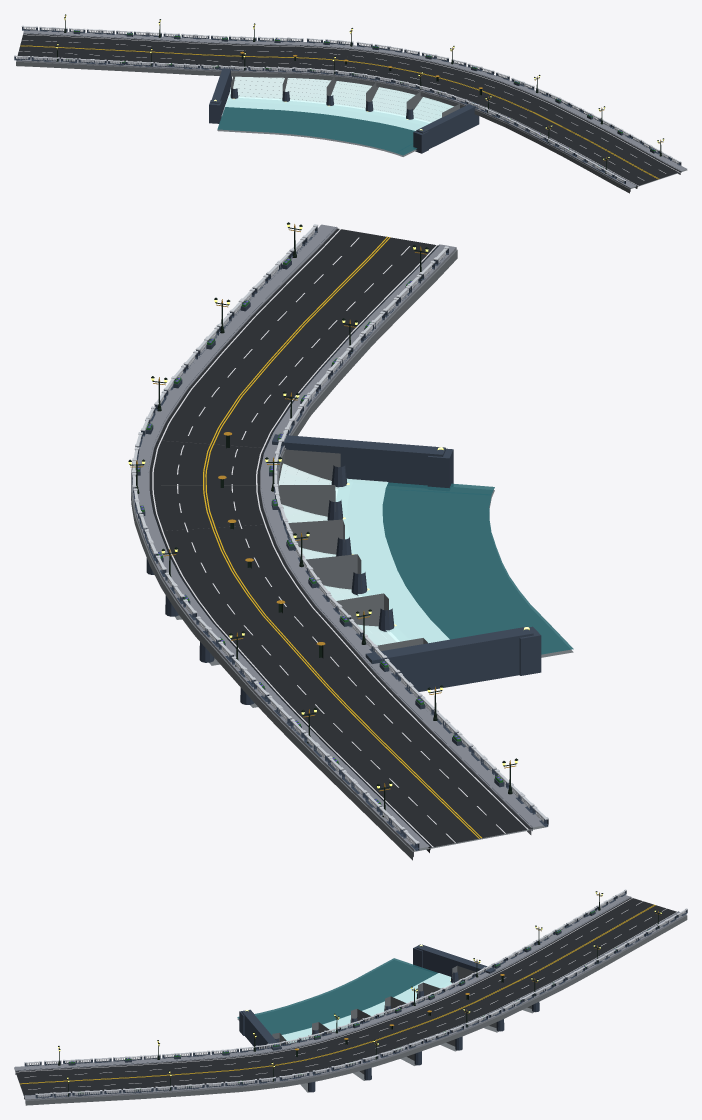
File: cau_ong_dao_dap_tran_ho_xuan_huong.glb
3 views of the same model, one above another, from view 1: azimuth 30°, elevation 25°; view 2: azimuth 150°, elevation 25°; view 3: azimuth 270°, elevation 25° (orthographic). The views are drawn at different scales.
Parts seen in each view (by area): view 1: CauOngDao_Asphalt_4Lanes, HoXuanHuong_Ogee_Spillway_Dam_And_Piers, CamLy_Stilling_Basin_Water_Surface, Spillway_Waterfall_Cascade_Foam, CauOngDao_SplitGranite_Wall_And_Curbs, CauOngDao_Promenade_Sidewalks, CauOngDao_Classical_Stone_Balustrades, CauOngDao_Lane_Edge_White, CauOngDao_Center_DoubleYellow, Spillway_SluiceGates_And_LampPosts; view 2: CauOngDao_Asphalt_4Lanes, CamLy_Stilling_Basin_Water_Surface, CauOngDao_SplitGranite_Wall_And_Curbs, CauOngDao_Promenade_Sidewalks, HoXuanHuong_Ogee_Spillway_Dam_And_Piers, Spillway_Waterfall_Cascade_Foam, CauOngDao_Classical_Stone_Balustrades, CauOngDao_Lane_Edge_White, CauOngDao_Center_DoubleYellow, Spillway_SluiceGates_And_LampPosts; view 3: CauOngDao_Asphalt_4Lanes, CauOngDao_SplitGranite_Wall_And_Curbs, CauOngDao_Promenade_Sidewalks, CamLy_Stilling_Basin_Water_Surface, HoXuanHuong_Ogee_Spillway_Dam_And_Piers, CauOngDao_Classical_Stone_Balustrades, CauOngDao_Lane_Edge_White, Spillway_Waterfall_Cascade_Foam, CauOngDao_Center_DoubleYellow, Spillway_SluiceGates_And_LampPosts.
Part boxes in pixels (x1,y1,x2,y2): CauOngDao_Asphalt_4Lanes: (17, 34, 680, 188); HoXuanHuong_Ogee_Spillway_Dam_And_Piers: (16, 61, 687, 193); CamLy_Stilling_Basin_Water_Surface: (217, 98, 428, 155); Spillway_Waterfall_Cascade_Foam: (225, 76, 453, 130); CauOngDao_SplitGranite_Wall_And_Curbs: (14, 27, 681, 187); CauOngDao_Promenade_Sidewalks: (16, 30, 686, 191); CauOngDao_Classical_Stone_Balustrades: (14, 25, 680, 182); CauOngDao_Lane_Edge_White: (19, 34, 679, 185); CauOngDao_Center_DoubleYellow: (20, 45, 659, 179); Spillway_SluiceGates_And_LampPosts: (56, 14, 663, 173); CauOngDao_Asphalt_4Lanes: (149, 228, 530, 852); CamLy_Stilling_Basin_Water_Surface: (336, 480, 573, 654); CauOngDao_SplitGranite_Wall_And_Curbs: (132, 226, 548, 850); CauOngDao_Promenade_Sidewalks: (132, 224, 543, 856); HoXuanHuong_Ogee_Spillway_Dam_And_Piers: (131, 249, 573, 860); Spillway_Waterfall_Cascade_Foam: (279, 463, 449, 645); CauOngDao_Classical_Stone_Balustrades: (132, 224, 548, 845); CauOngDao_Lane_Edge_White: (152, 229, 528, 847); CauOngDao_Center_DoubleYellow: (203, 236, 481, 838); Spillway_SluiceGates_And_LampPosts: (128, 222, 517, 817); CauOngDao_Asphalt_4Lanes: (15, 897, 676, 1099); CauOngDao_SplitGranite_Wall_And_Curbs: (18, 891, 687, 1098); CauOngDao_Promenade_Sidewalks: (14, 895, 686, 1103); CamLy_Stilling_Basin_Water_Surface: (237, 958, 450, 1039); HoXuanHuong_Ogee_Spillway_Dam_And_Piers: (14, 915, 687, 1105); CauOngDao_Classical_Stone_Balustrades: (24, 889, 687, 1097); CauOngDao_Lane_Edge_White: (16, 898, 677, 1089); Spillway_Waterfall_Cascade_Foam: (282, 973, 458, 1043); CauOngDao_Center_DoubleYellow: (20, 904, 655, 1084); Spillway_SluiceGates_And_LampPosts: (58, 891, 661, 1096).
Bounding box in the file's own units: 115 × 10.66 × 159.
